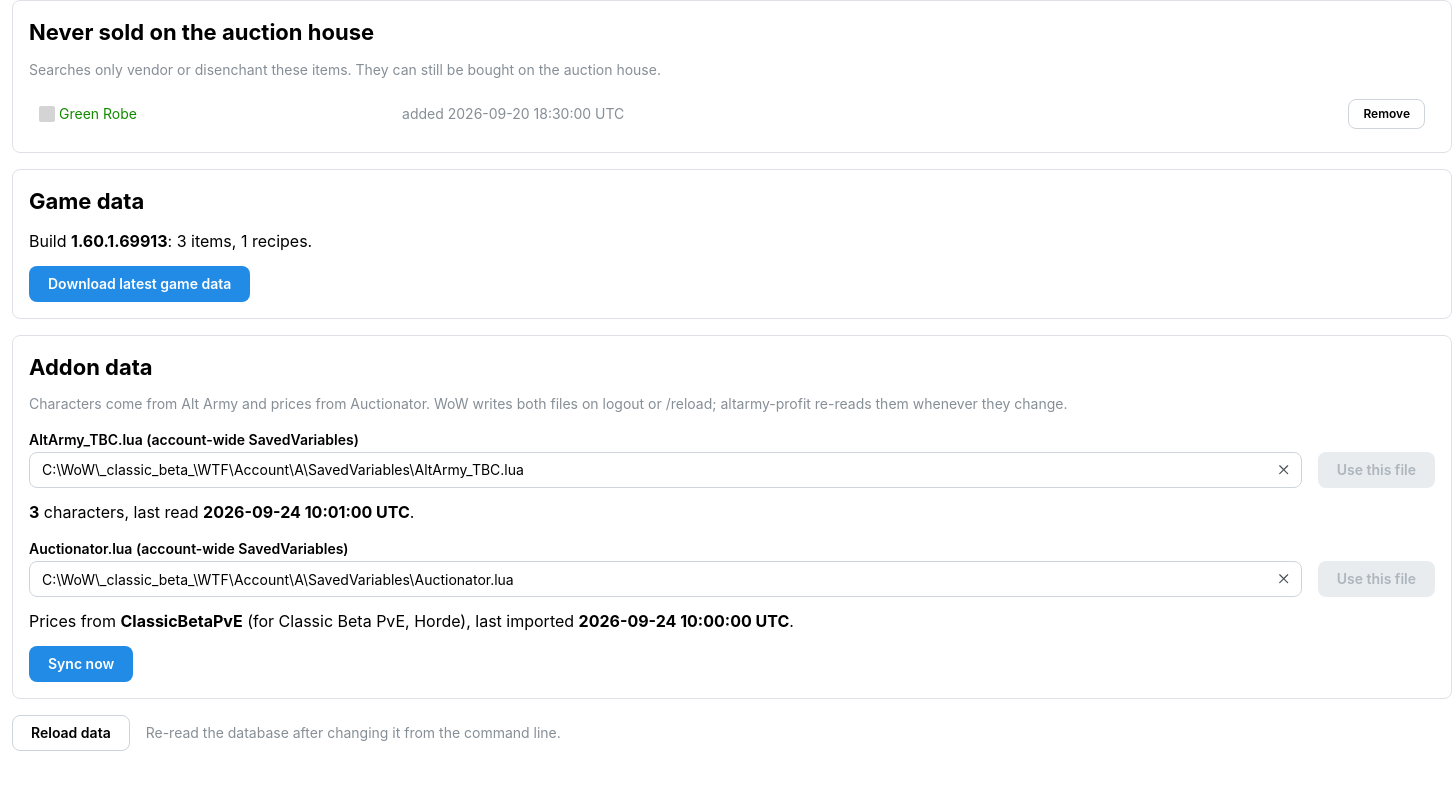
Scenario: ManageTab auction house list › lists items never sold on the AH and removes them
The width and height of the screenshot is (1452, 810).
Expected: the text "Green Robe" is shown, [59,103,137,125]
Expected: the text "added 2026-09-20 18:30:00 UTC" is shown, [402,105,624,122]
Click the button with aria-label "Allow Green Robe on the auction house": click(1387, 114) [1348,99,1425,129]
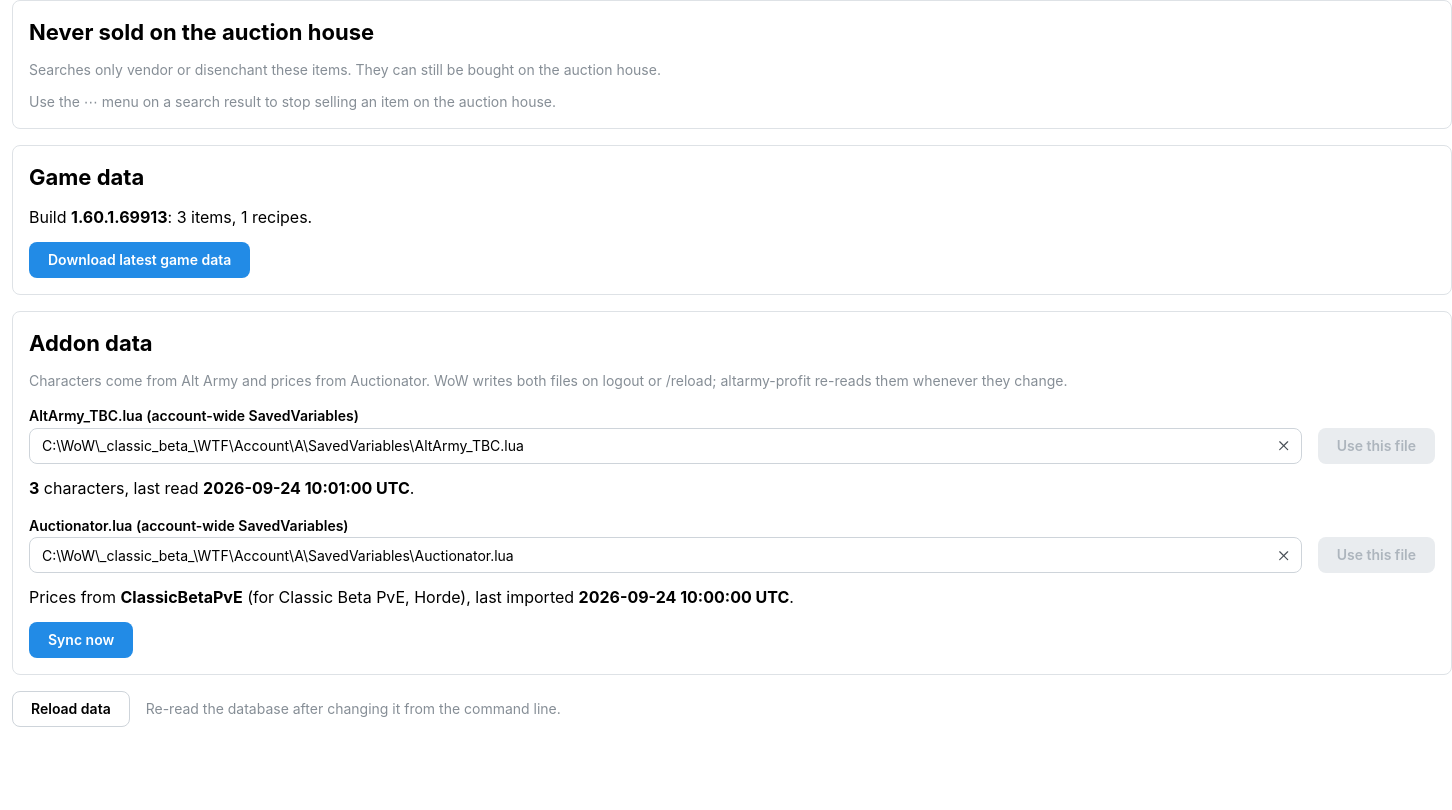
Result: the text "Use the ⋯ menu on a search result" is shown at [29,93,556,110]
